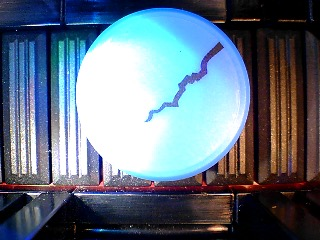CRACK: (76, 7, 251, 182)
